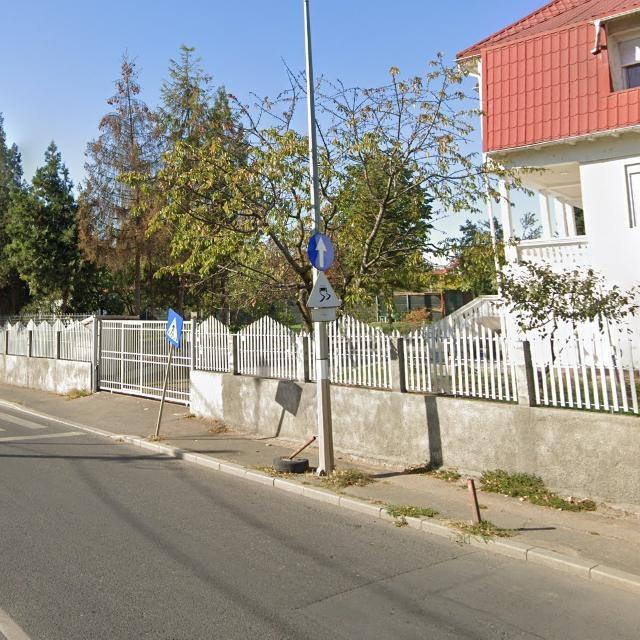info_crosswalk: (165, 309, 184, 347)
